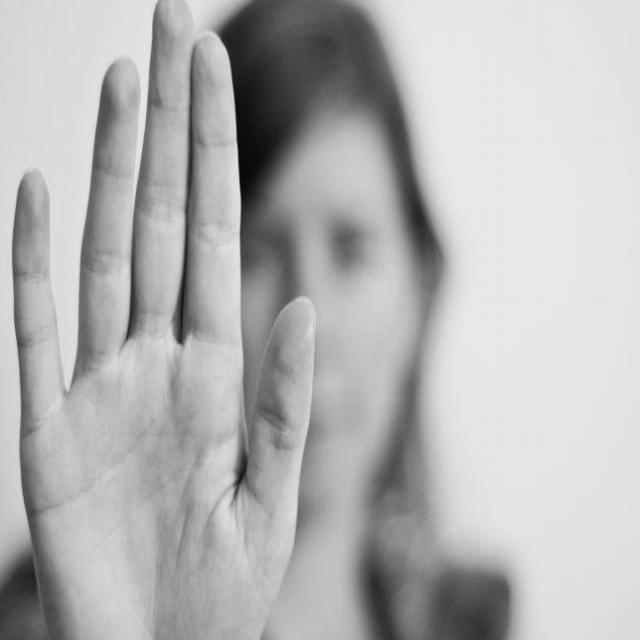stop: (4, 0, 323, 640)
